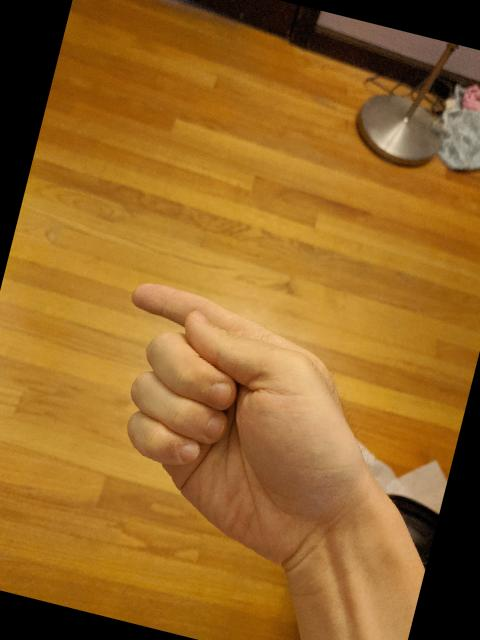G: (72, 273, 410, 586)
